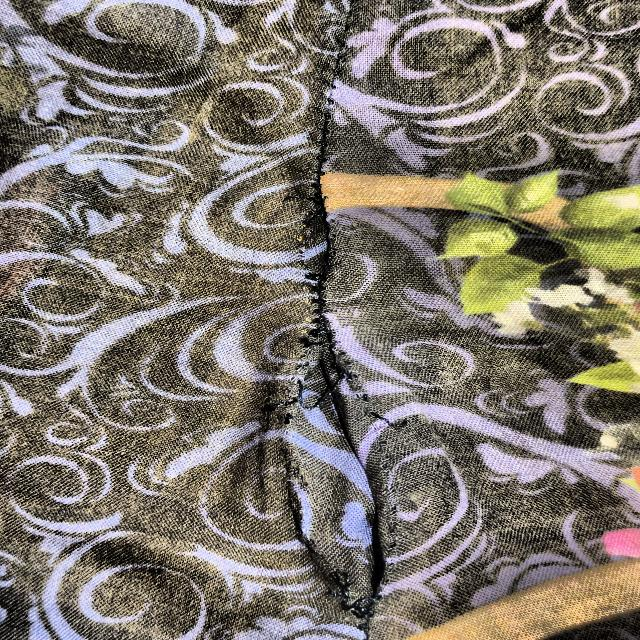seam: (235, 162, 437, 634)
